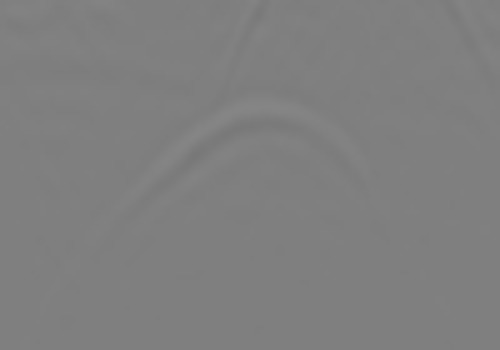hyperbola: (67, 88, 440, 274)
